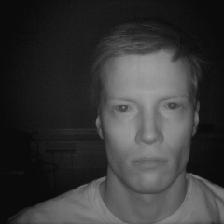normal: (84, 24, 208, 199)
